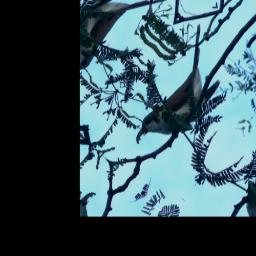Cuckoo: (114, 19, 249, 166)
